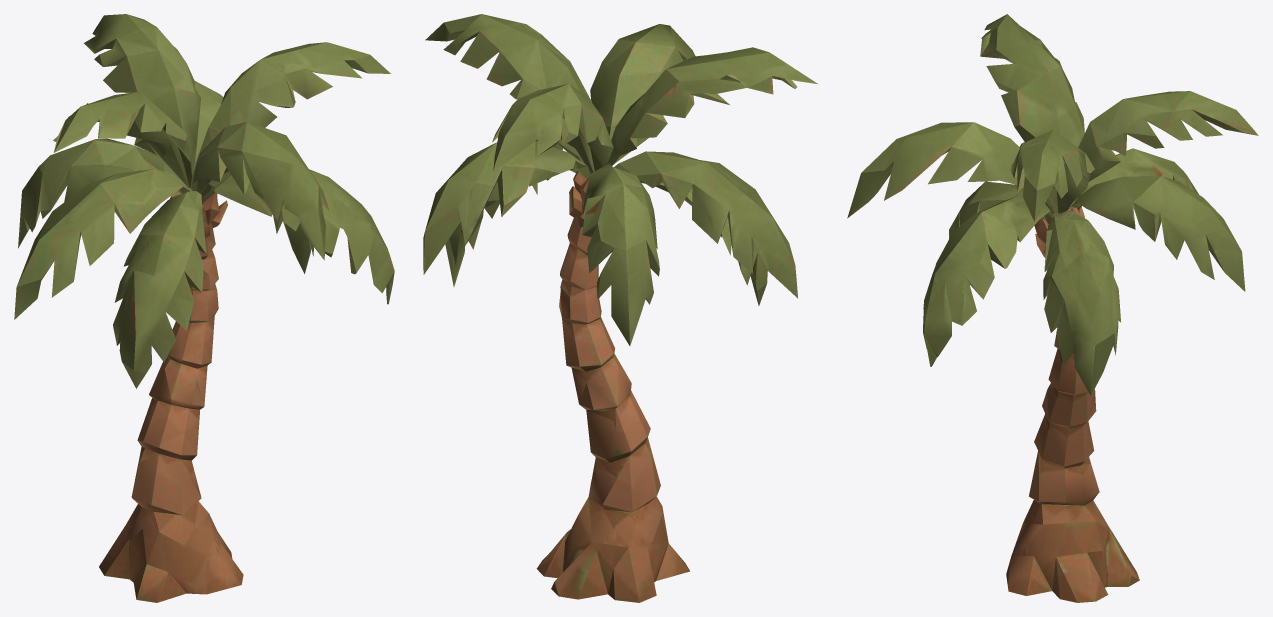
Rendered from palm.glb.
3 views of the same model, side by side, from view 1: azimuth 30°, elevation 25°; view 2: azimuth 150°, elevation 25°; view 3: azimuth 270°, elevation 25° (orthographic). The views are drawn at different scales.
Bounding box in the file's own units: 1.43 × 1.9 × 1.41.
1 material, 1 textured.
